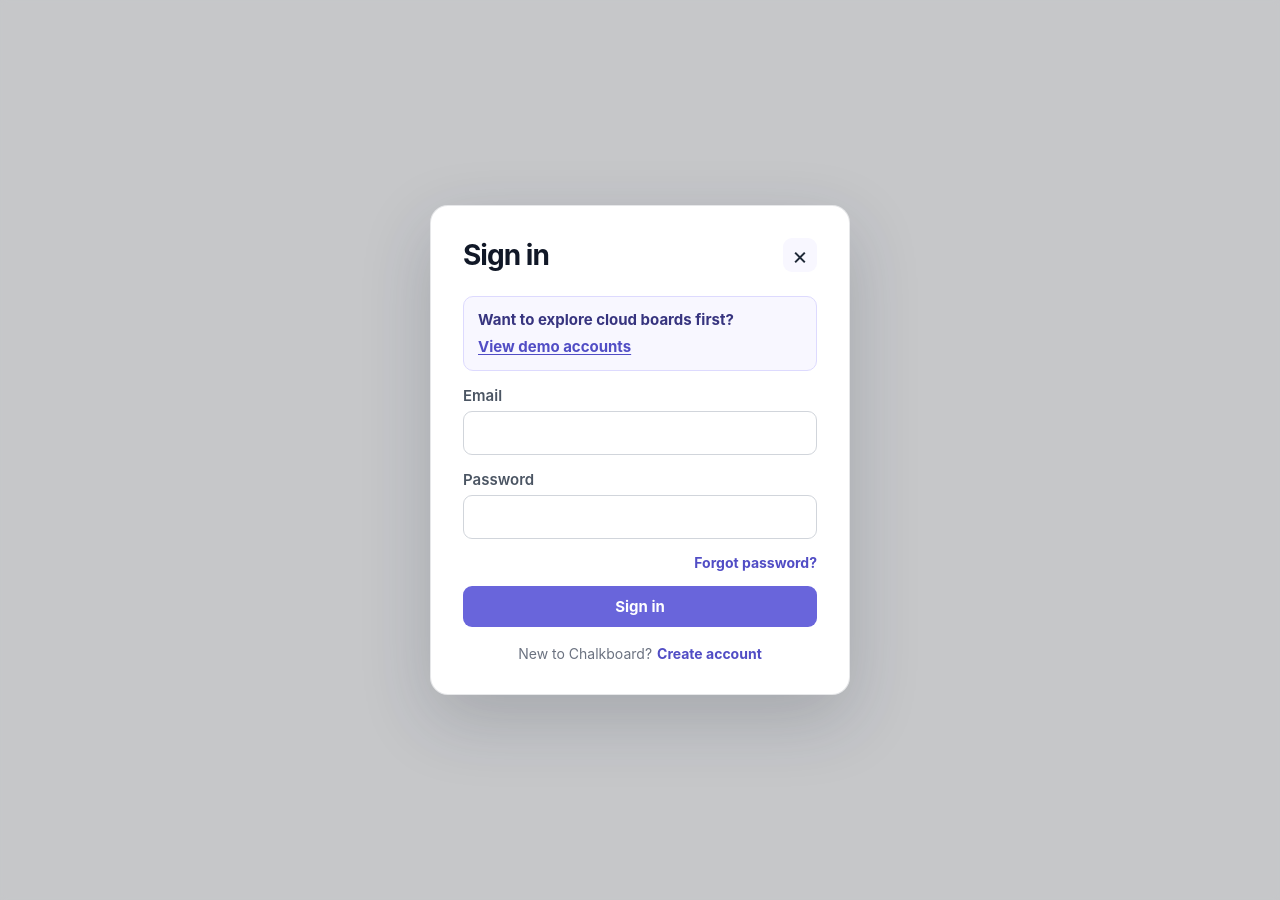
AccountPanel authentication form › titles the password reset step rather than leaving it as sign-in
The width and height of the screenshot is (1280, 900).
Expected: the heading reads "Sign in", [463,238,549,272]
Click the button "Forgot password?" at (756, 562), box [694,554,817,571]
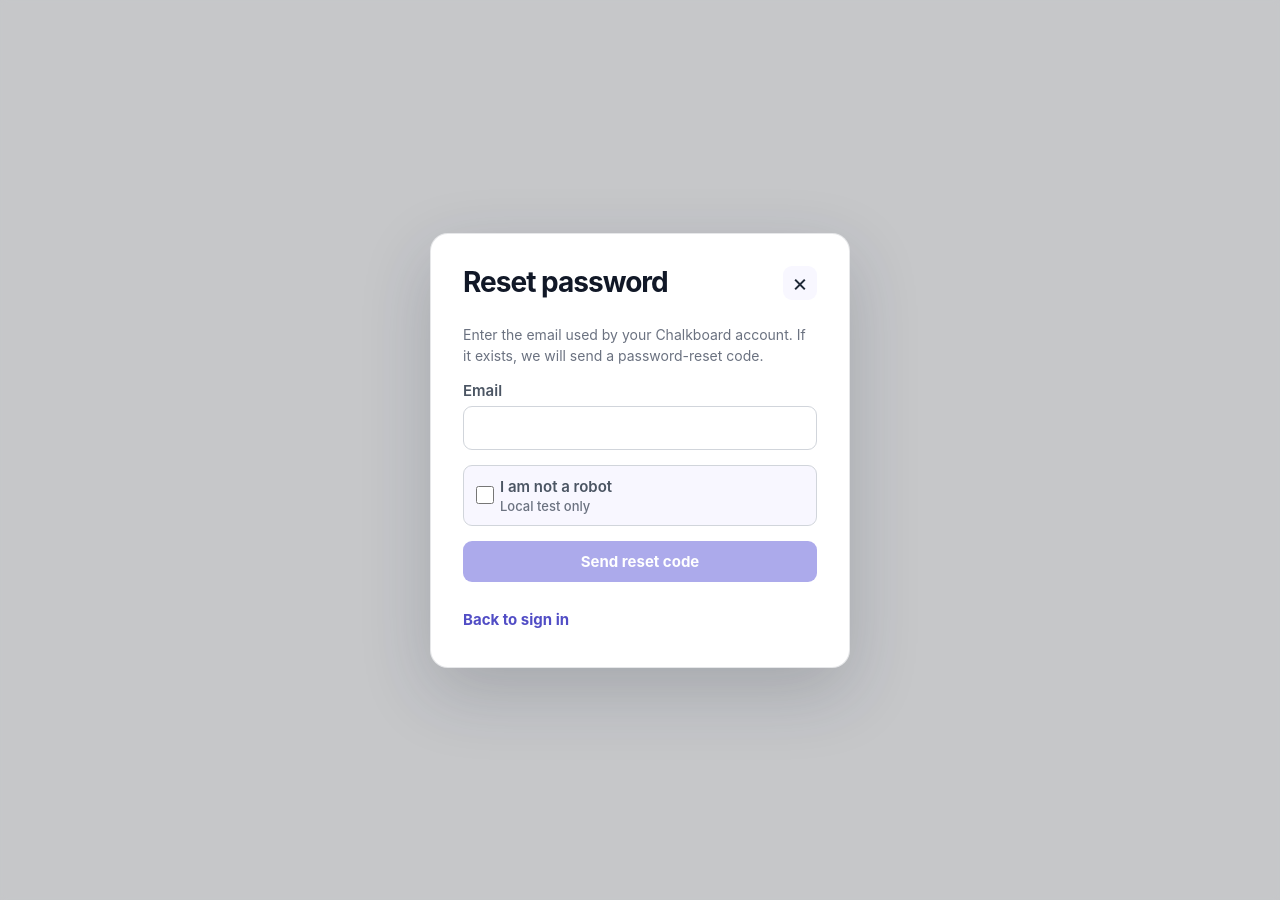
Expected: the heading reads "Reset password", [463,265,668,299]
Click the button "Back to sign in" at (516, 619), box [463,604,569,634]
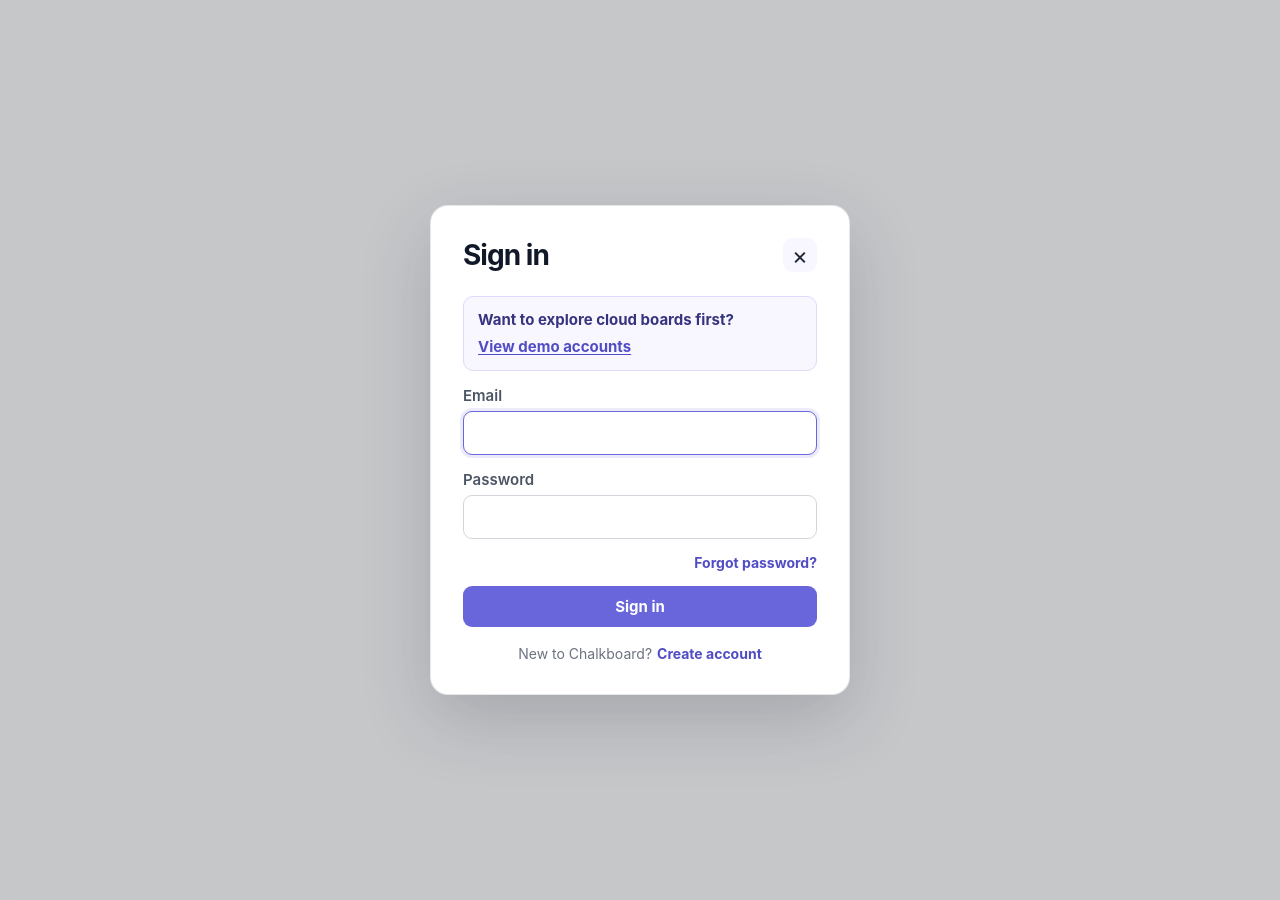
Expected: the heading reads "Sign in", [463,238,549,272]
